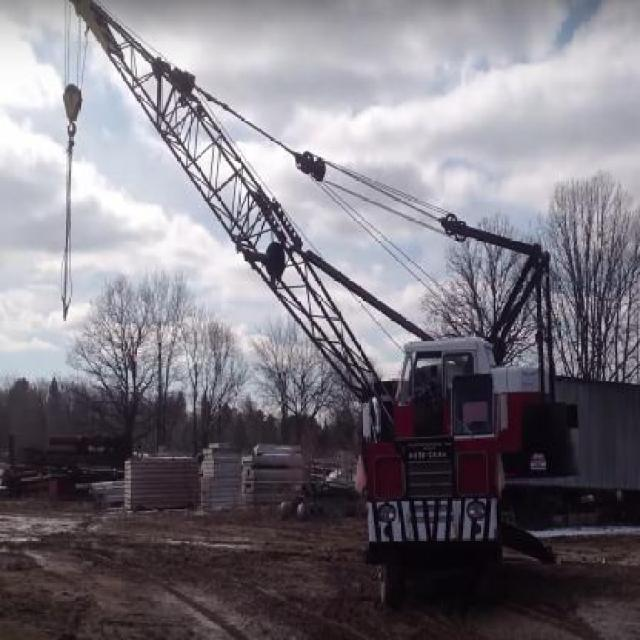Mobile Crane: (59, 0, 579, 603)
